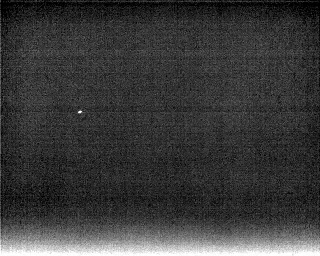BIRD: (76, 108, 84, 116)
